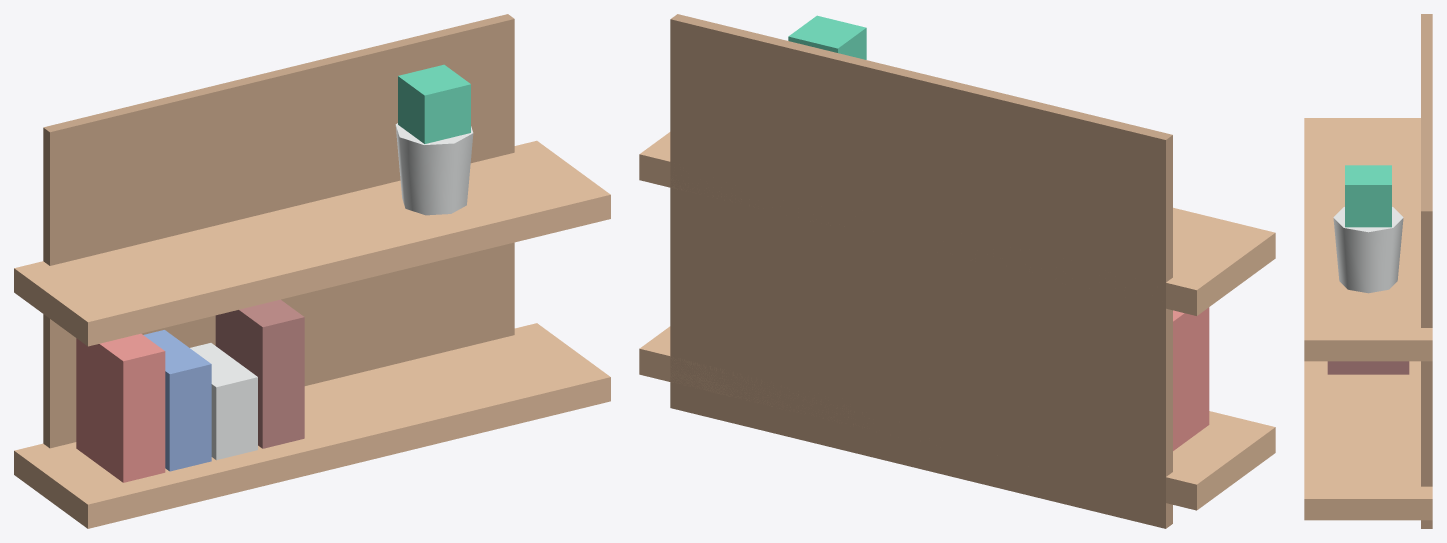
The model's file is wallShelfFloating.glb.
3 views of the same model, side by side, from view 1: azimuth 30°, elevation 25°; view 2: azimuth 150°, elevation 25°; view 3: azimuth 270°, elevation 25° (orthographic). The views are drawn at different scales.
Visible parts, largest first — view 1: wallShelfFloating; view 2: wallShelfFloating; view 3: wallShelfFloating.
Part boxes in pixels (x1,y1,x2,y2): wallShelfFloating: (14,14,610,528); wallShelfFloating: (639,14,1275,528); wallShelfFloating: (1304,14,1432,528).
Bounding box in the file's own units: 0.45 × 0.3 × 0.11.
